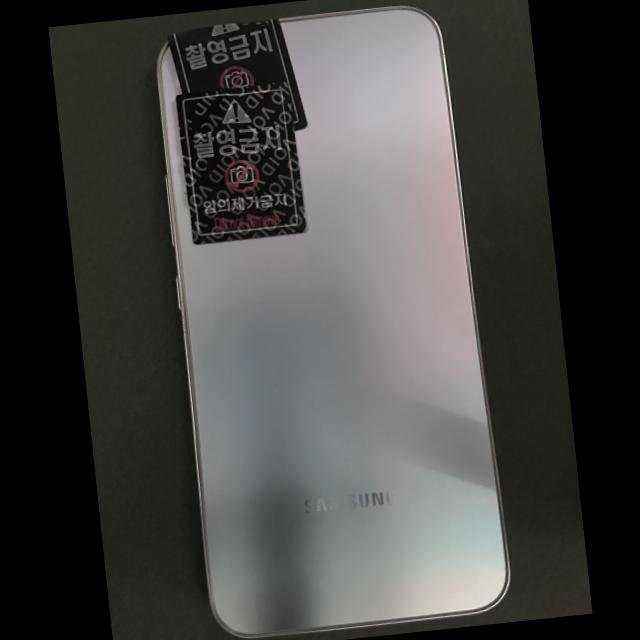phone: (159, 8, 509, 636)
sticker: (175, 81, 307, 244), (167, 17, 307, 130)
